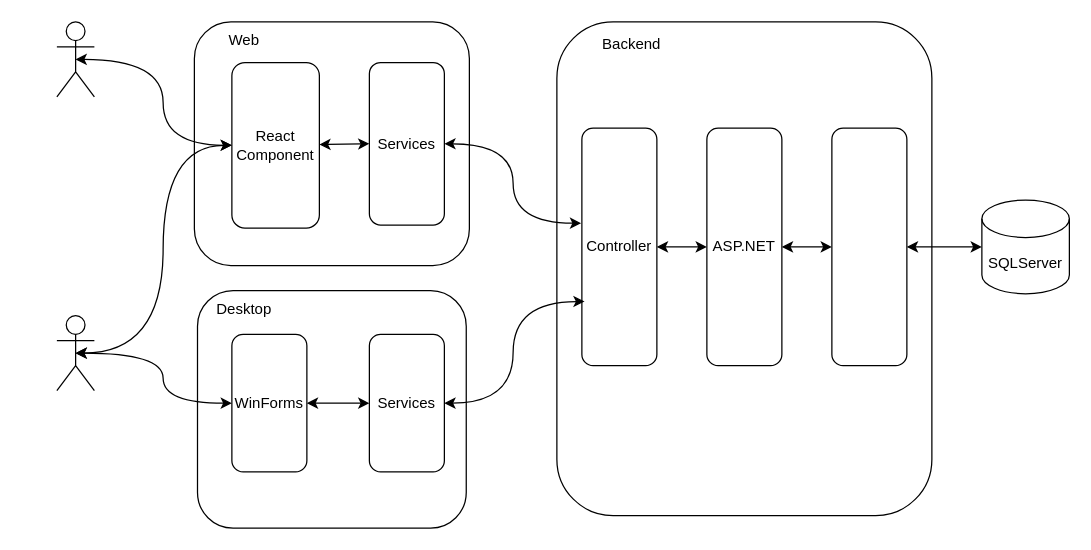
This 1091x550 diagram has some shape labels left out. Here are the shapes that lost their labels. From the top down, the centre of each, then its label:
At (75,59): "Usuario Externo".
At (869,246): "Entity FW".
At (75,352): "Usuario Interno".
